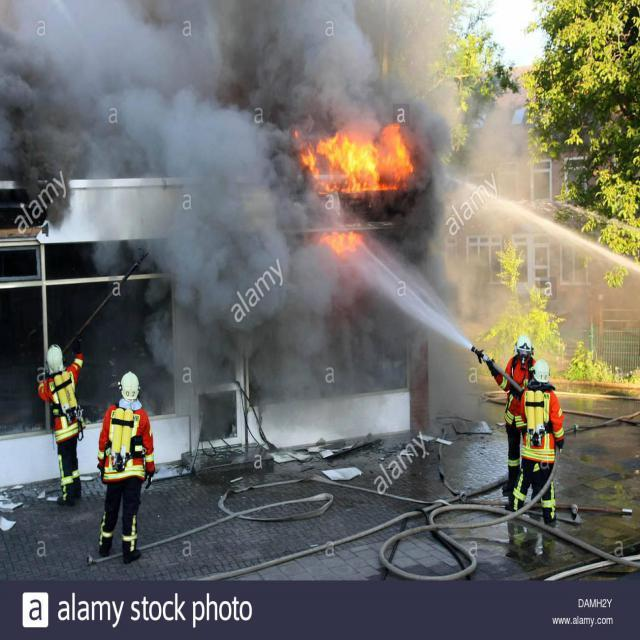Fire: (284, 116, 438, 245)
